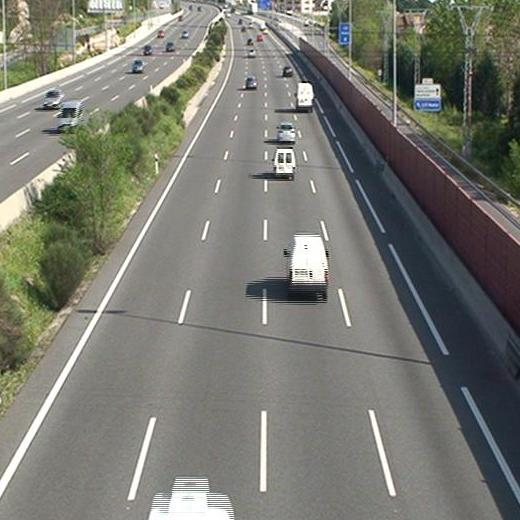car: (277, 124, 295, 142), (245, 77, 256, 90), (282, 66, 292, 77), (246, 49, 256, 58)
van: (285, 235, 327, 291), (273, 149, 295, 175), (296, 84, 312, 109)
